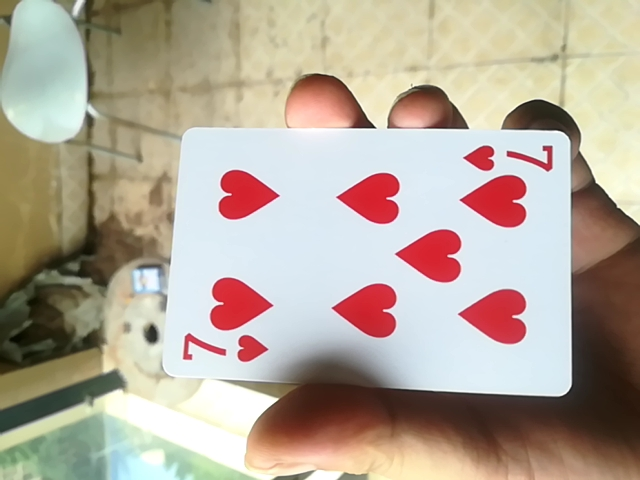hx 7: (163, 129, 579, 399)
